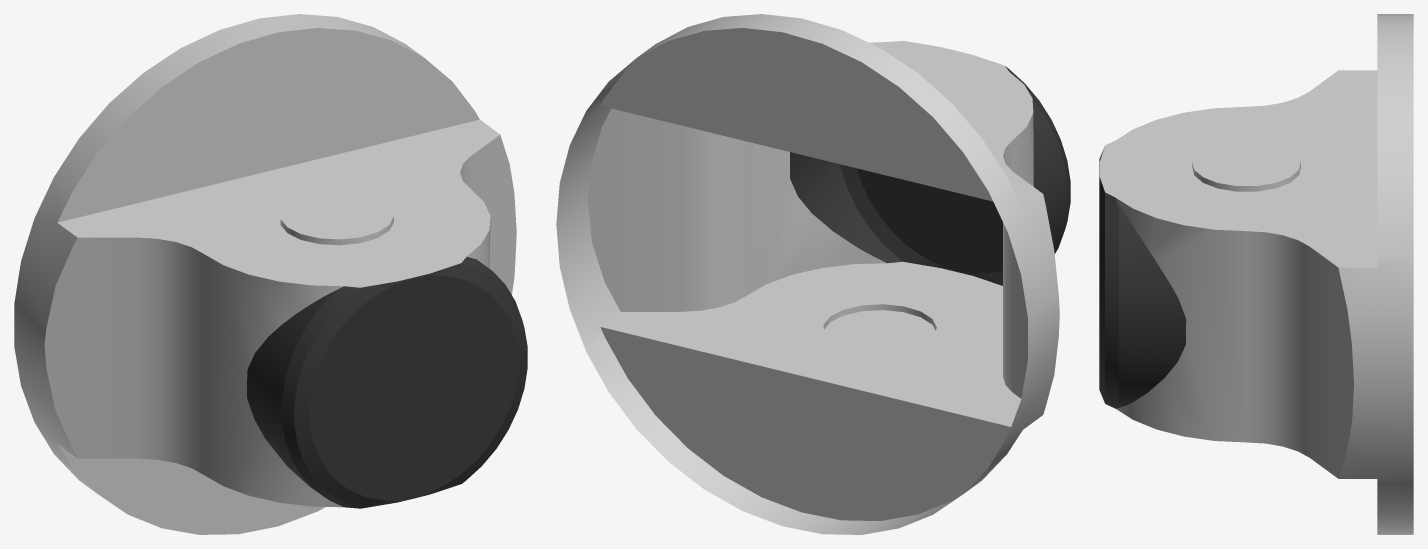
Rendered from wam5.dae.
3 renders of one model, left to right at view 1: azimuth 30°, elevation 25°; view 2: azimuth 150°, elevation 25°; view 3: azimuth 270°, elevation 25°, orthographic. The views are drawn at different scales.
Parts seen in each view (by area): view 1: wamUpperWristYawLink; view 2: wamUpperWristYawLink; view 3: wamUpperWristYawLink.
Part boxes in pixels (box(x1,y1,x2,y2)): wamUpperWristYawLink: box(14, 14, 527, 534); wamUpperWristYawLink: box(556, 14, 1070, 534); wamUpperWristYawLink: box(1099, 14, 1413, 534).
Bounding box in the file's own units: 0.085 × 0.0849 × 0.0512.
1 material, 1 textured.
